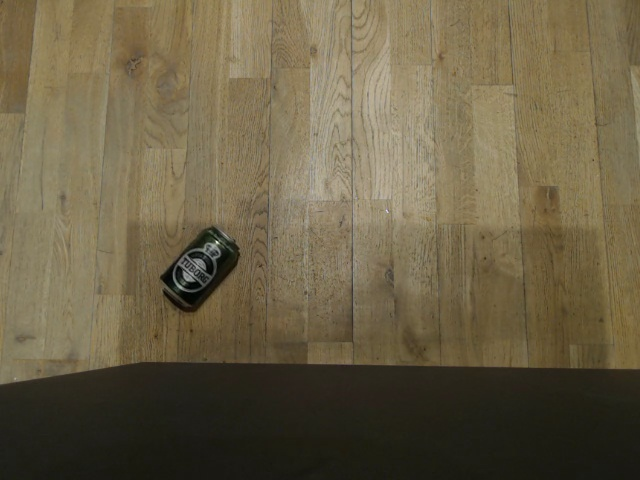beer: (155, 222, 242, 313)
